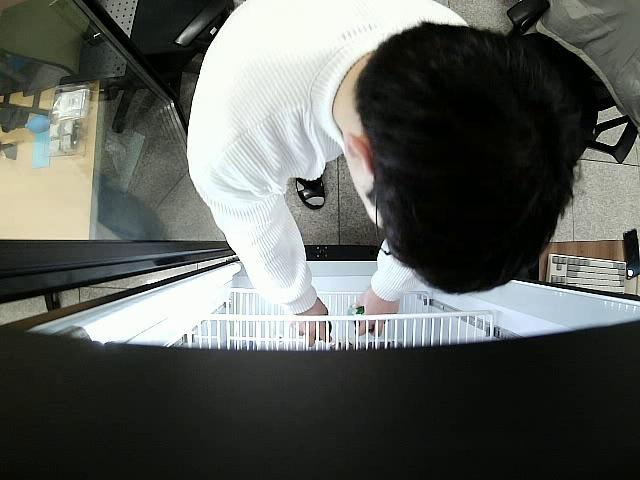12_chilsungCider: (348, 305, 365, 322)
